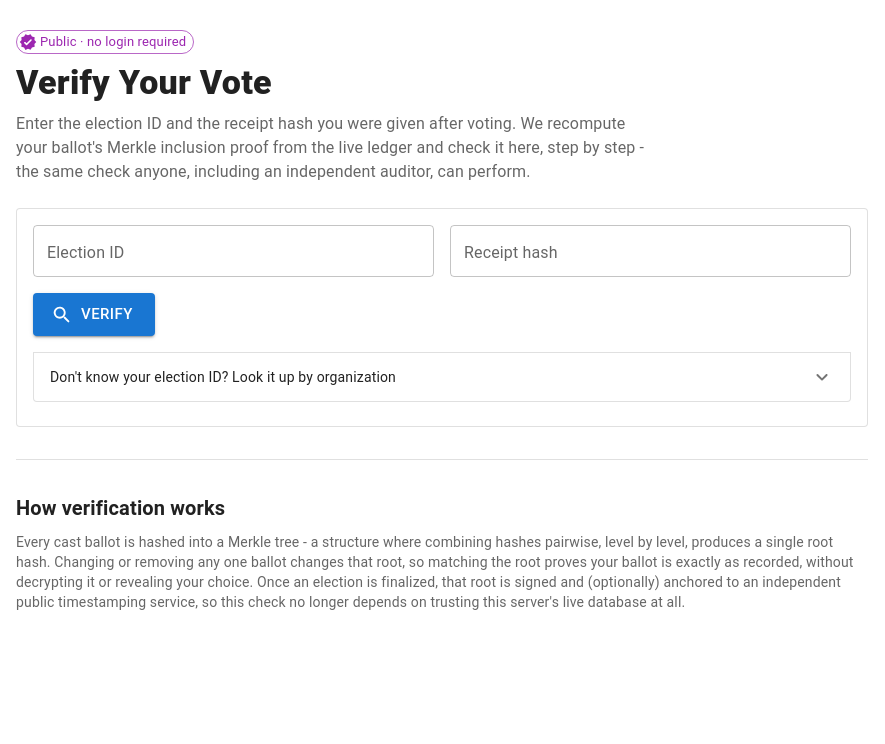
Scenario: Verify Page › Verification Flow › shows a success banner and the Merkle proof steps when verified
In the field labelled "Election ID": (234, 251) [33, 225, 434, 277], type "election-1"
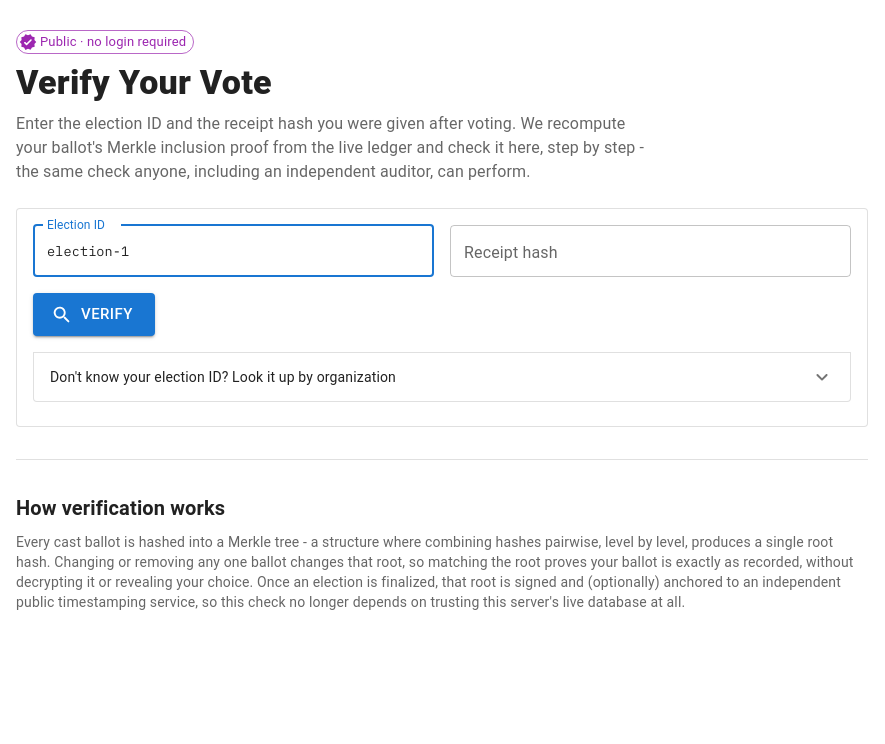
In the field labelled "Receipt hash": (650, 251) [450, 225, 851, 277], type "receipt-hash-abc"
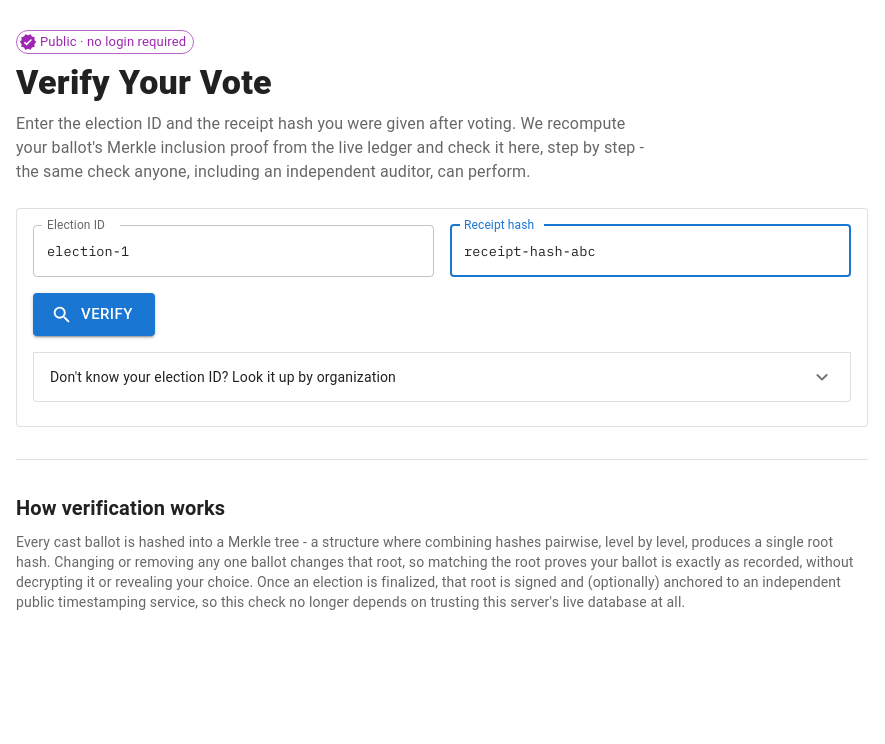
Click the button "Verify": (94, 315) [33, 293, 155, 336]
(page scrolled)
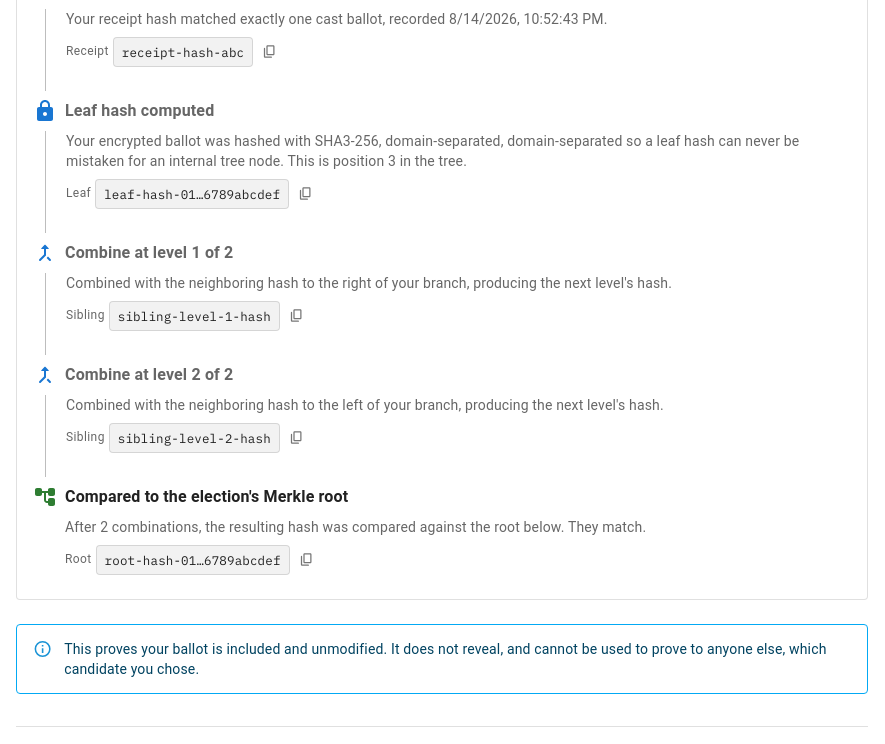
Expected: the text "Leaf hash computed" is shown, [65, 101, 214, 120]
Expected: the text "Compared to the election's Merkle root" is shown, [65, 487, 348, 506]
Expected: the text "Combine at level 1 of 2" is shown, [65, 243, 234, 262]
